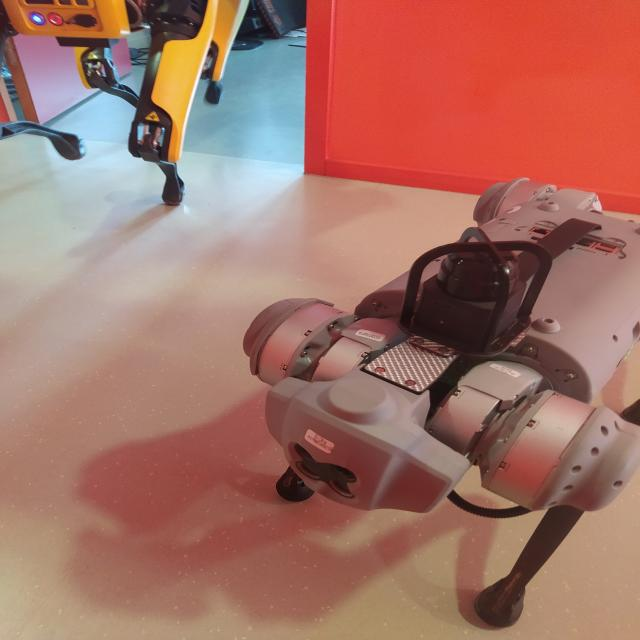unitree-go1-robot: (237, 174, 640, 640)
